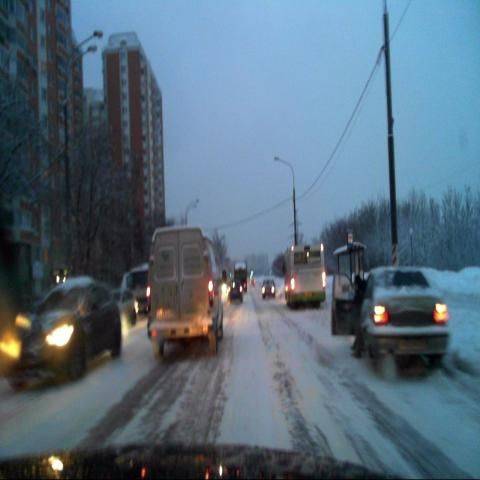5_16: (346, 229, 354, 248)
